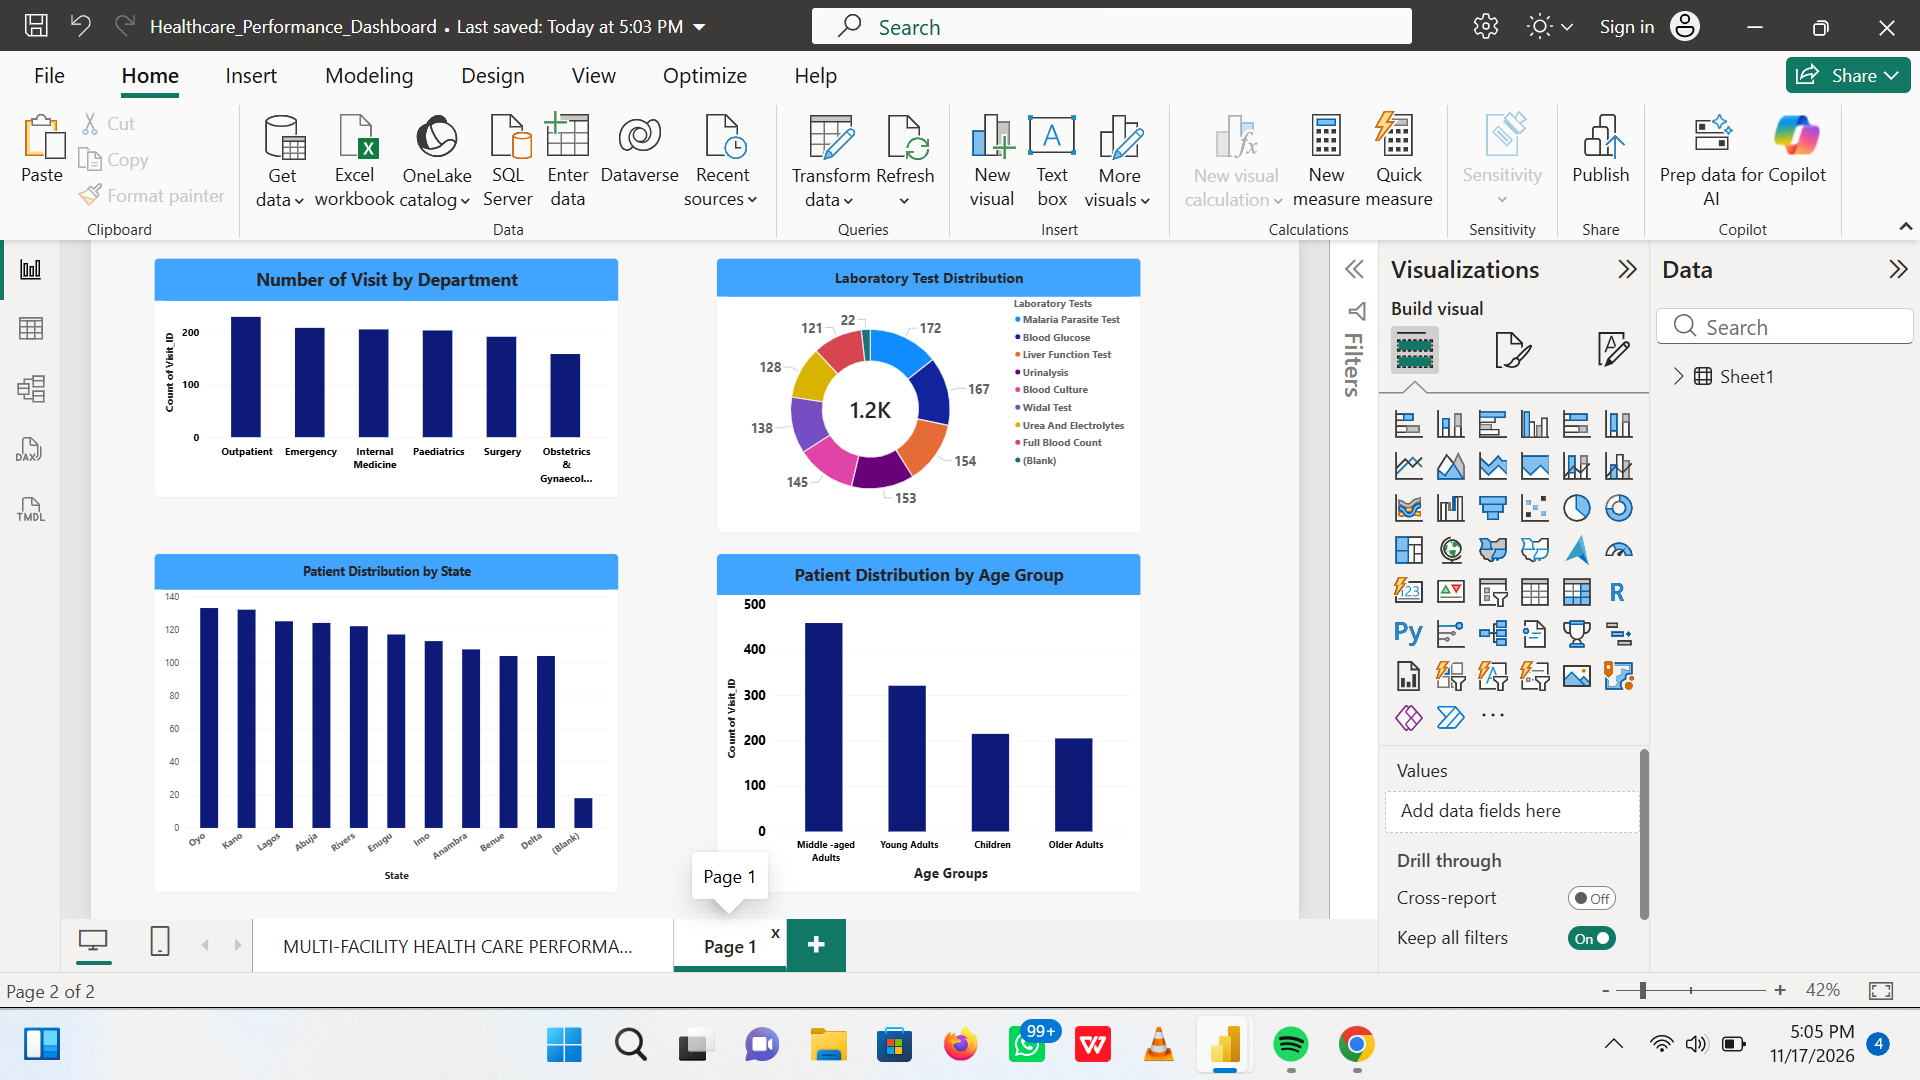

Layout of this report page (visuals, bound fields, positions):
{"tool":"powerbi","page":{"name":"Page 1","canvas":[1920,1080],"ordinal":1},"visuals":[{"type":"clusteredColumnChart","title":"Patient Distribution by Age Group","fields":{"Category":["Sheet1.Age Groups"],"Y":["CountNonNull(Sheet1.Visit_ID)"]},"box":[994.9,498.7,675.2,539.2],"z":1000},{"type":"donutChart","title":"Laboratory Test Distribution","fields":{"Category":["Sheet1.Laboratory_Test"],"Y":["CountNonNull(Sheet1.Visit_ID)"]},"box":[994.9,28.6,675.2,436.6],"z":2000},{"type":"clusteredColumnChart","title":"Patient Distribution by State","fields":{"Category":["Sheet1.State"],"Y":["CountNonNull(Sheet1.Visit_ID)"]},"box":[100.2,498.7,739.6,539.2],"z":3000},{"type":"clusteredColumnChart","title":"Number of Visit by Department","fields":{"Category":["Sheet1.Department"],"Y":["CountNonNull(Sheet1.Visit_ID)"]},"box":[100.2,28.6,739.5,381.3],"z":7000}]}

Visuals, with their boxes on the page's 1920x1080 design canvas (x1, y1, x2, y2). These are canvas units, not pixel positions in the 1920x1080 screenshot, which may show the page scaled, cropped or inside an application window:
"Patient Distribution by Age Group" clusteredColumnChart: crop(995, 499, 1670, 1038)
"Laboratory Test Distribution" donutChart: crop(995, 29, 1670, 465)
"Patient Distribution by State" clusteredColumnChart: crop(100, 499, 840, 1038)
"Number of Visit by Department" clusteredColumnChart: crop(100, 29, 840, 410)
